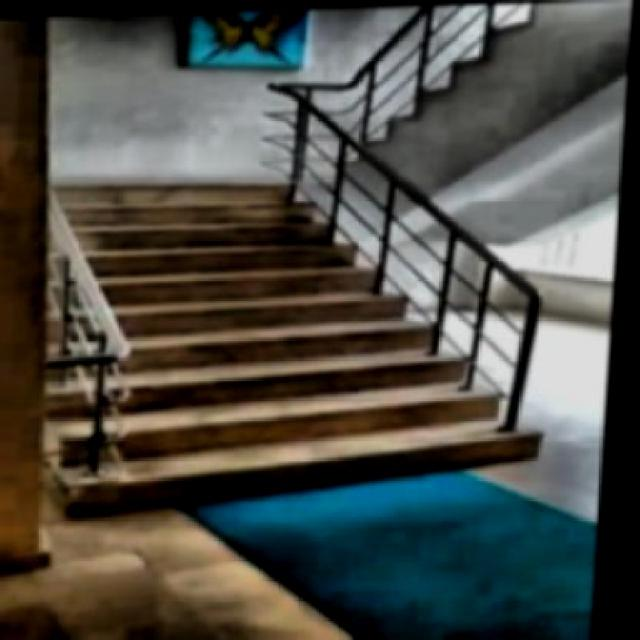stair: (23, 160, 555, 506)
